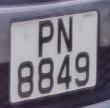4: (56, 52, 73, 91)
8: (15, 57, 37, 102), (34, 55, 57, 98)
9: (73, 45, 92, 93)
N: (54, 14, 78, 56)
P: (34, 17, 57, 62)
